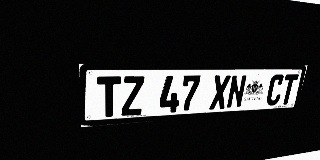4: (159, 75, 182, 113)
7: (179, 75, 201, 112)
C: (265, 74, 285, 106)
N: (226, 75, 247, 109)
T: (97, 76, 121, 118), (279, 74, 299, 105)
X: (209, 75, 231, 110)
Z: (121, 76, 144, 116)
